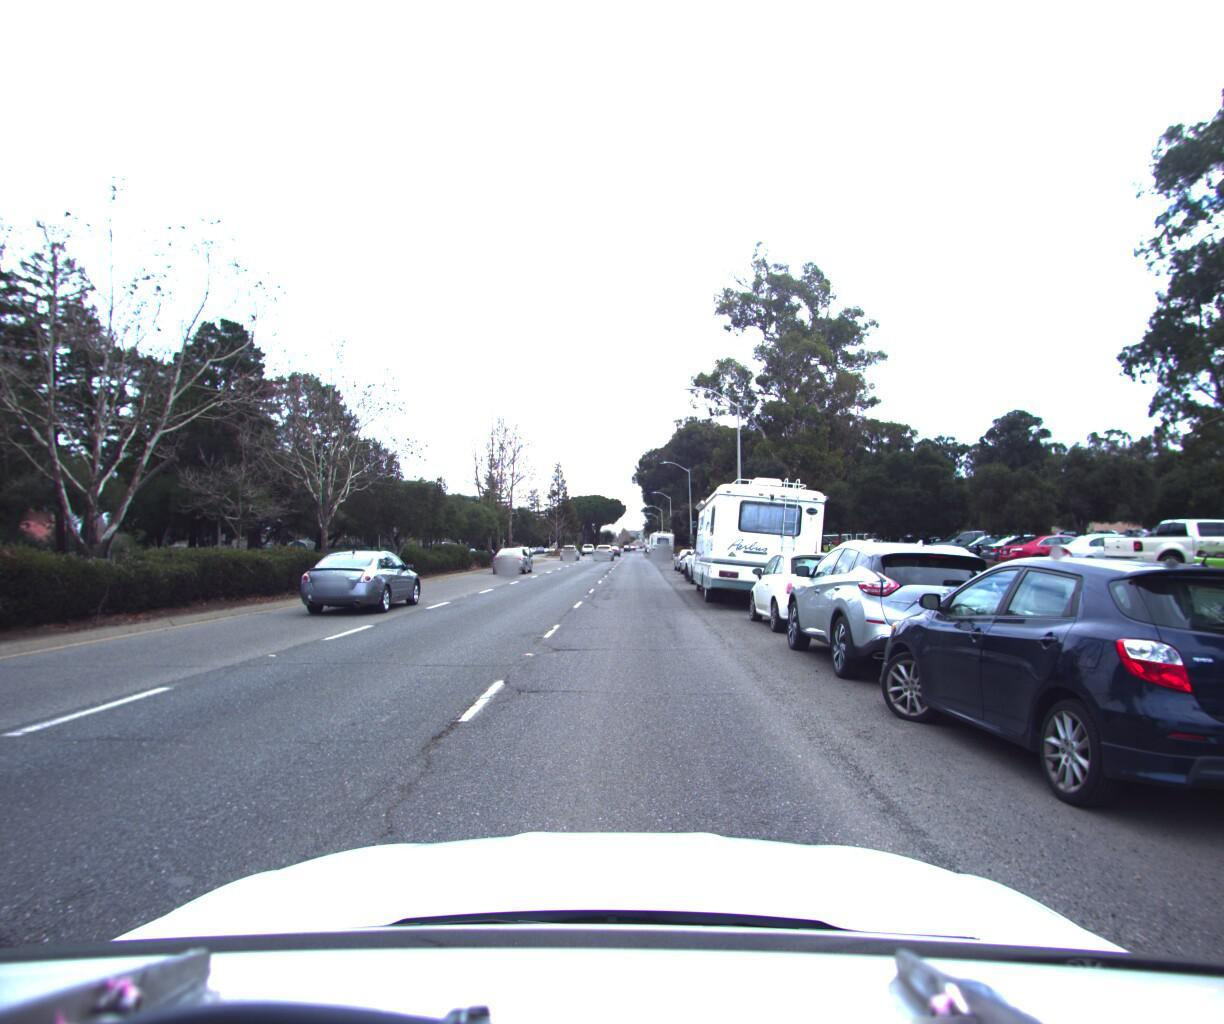car: (859, 534, 1224, 860), (768, 527, 1028, 698), (742, 533, 864, 633), (294, 546, 424, 616), (682, 532, 740, 580), (489, 541, 533, 569), (559, 537, 584, 557), (591, 542, 615, 559)
other_vehicle: (690, 462, 827, 613)
